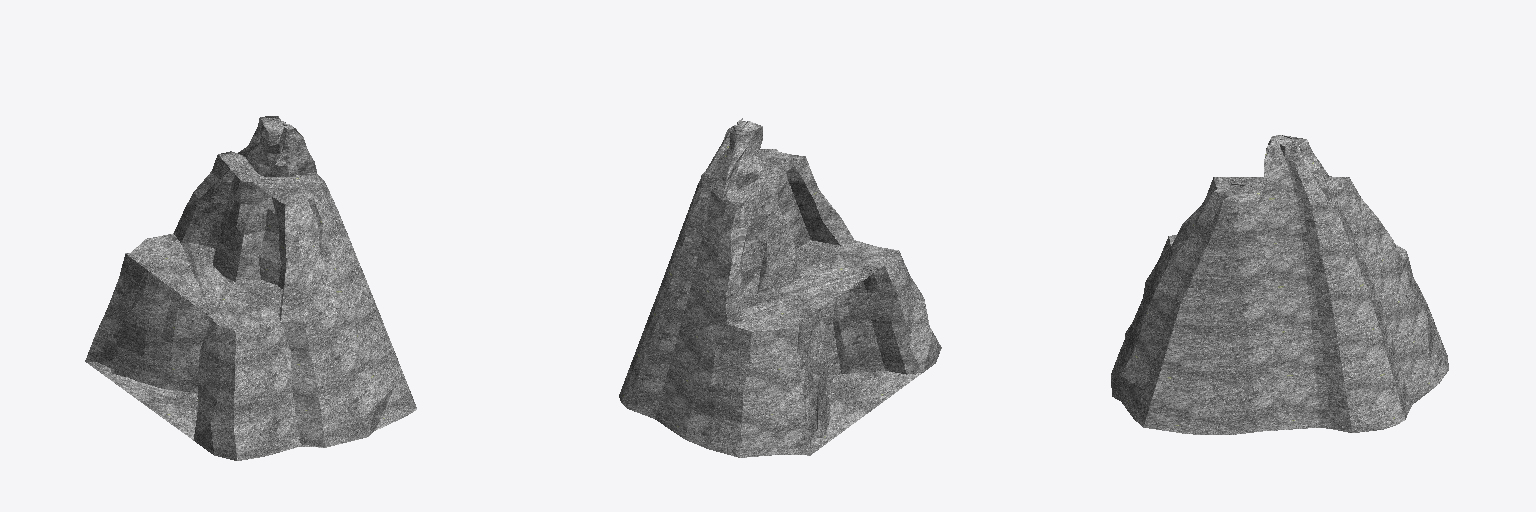
3 views of the same model, side by side, from view 1: azimuth 30°, elevation 25°; view 2: azimuth 150°, elevation 25°; view 3: azimuth 270°, elevation 25° (orthographic).
Parts seen in each view (by area): view 1: Plane; view 2: Plane; view 3: Plane.
Boxes of the visible parts, box(x1,y1,x2,y2) form: Plane: box(85, 116, 416, 460); Plane: box(619, 118, 941, 457); Plane: box(1111, 135, 1448, 434).
Size of the model in its own units: 6.57 by 7.38 by 8.86.
Materials: 1 (1 with a texture image).